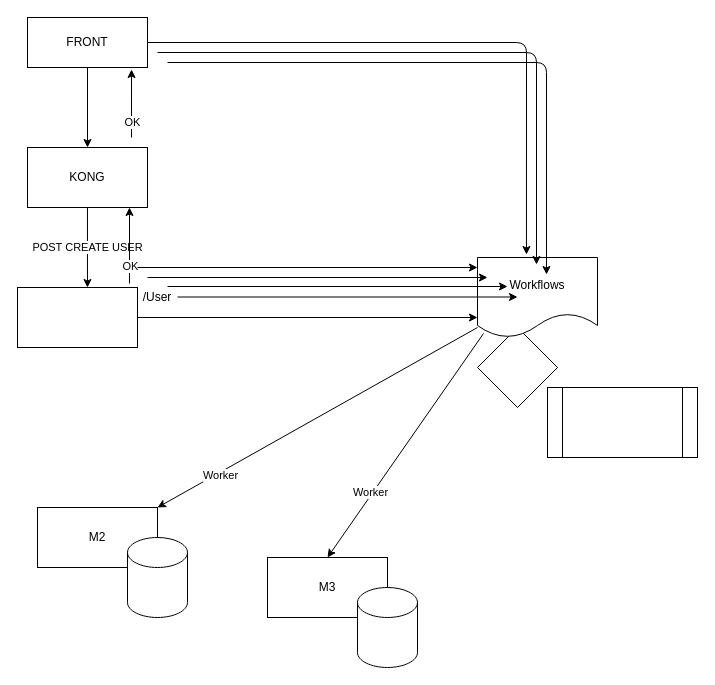
Some shapes in this 715 by 685 pixel diagram are drawn without their labels. Each missing label, with the centre of its shape:
"M1" belongs at pixel 77 317.
"WORKERS" belongs at pixel 622 422.
"ZEEBE" belongs at pixel 517 367.
